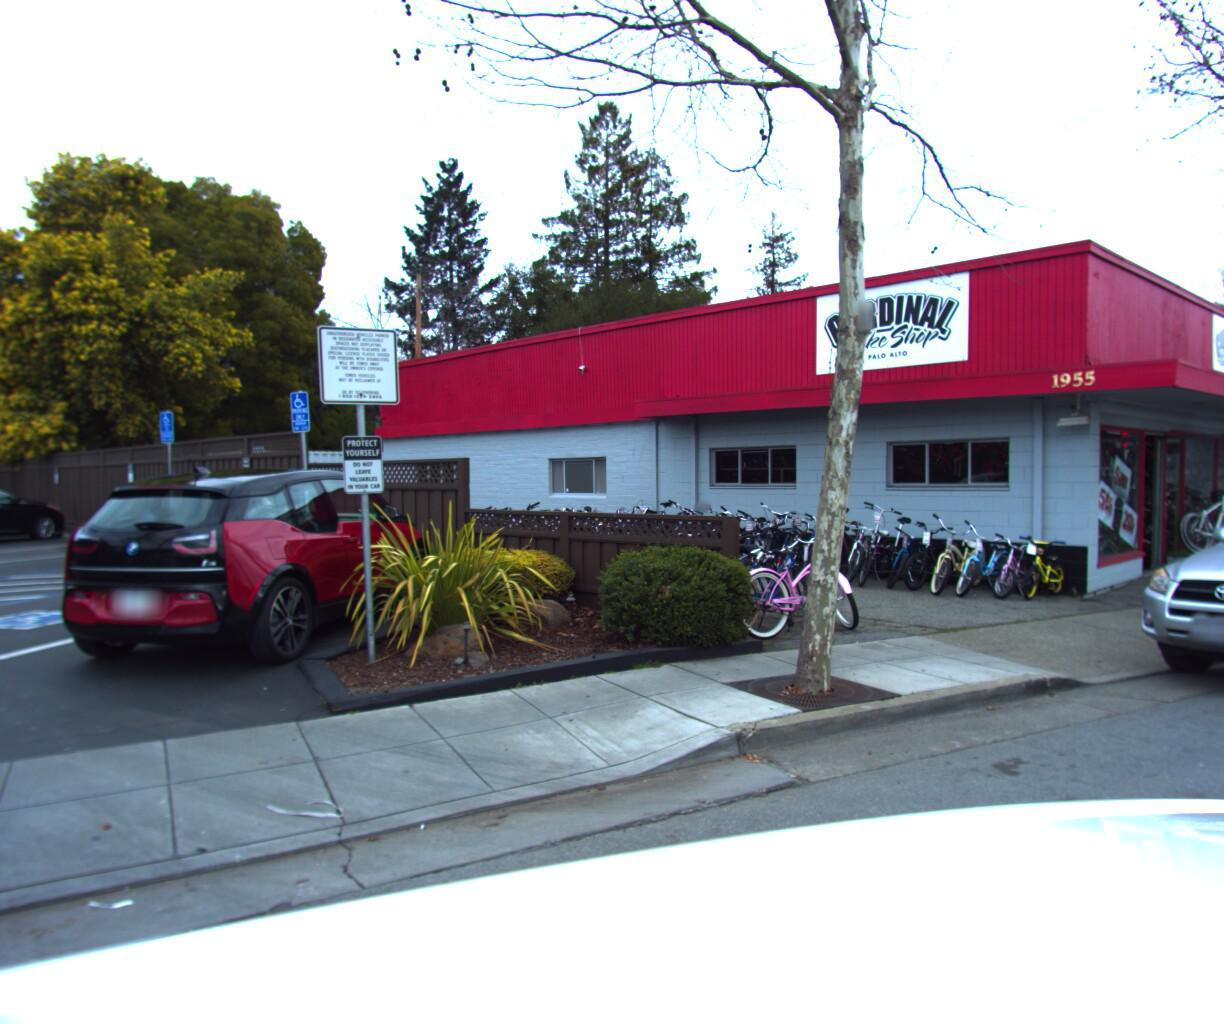bicycle: (735, 502, 873, 643), (707, 502, 840, 636), (680, 501, 808, 633), (649, 524, 775, 627), (845, 504, 921, 595), (784, 513, 859, 591), (876, 517, 948, 598), (759, 511, 834, 590), (737, 511, 811, 587), (646, 503, 720, 578), (714, 510, 788, 585), (1009, 531, 1080, 609), (631, 502, 703, 577), (817, 517, 889, 592), (975, 530, 1045, 606), (693, 510, 767, 583), (613, 502, 685, 575), (678, 509, 751, 581), (942, 529, 1012, 603), (663, 509, 735, 580), (1155, 482, 1224, 555), (910, 528, 979, 600), (595, 505, 667, 573), (1159, 484, 1224, 557), (526, 507, 594, 571), (1165, 482, 1224, 553), (548, 510, 616, 568), (1180, 482, 1224, 551), (1189, 482, 1224, 549)
car: (13, 454, 449, 685), (1101, 459, 1224, 733)
